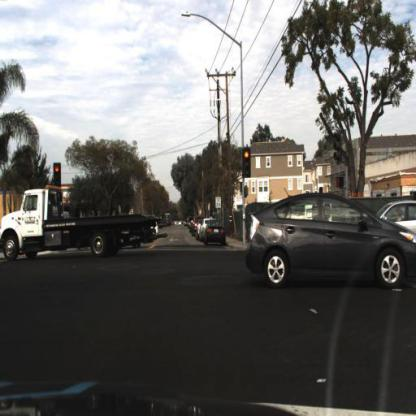car: (245, 192, 415, 290), (375, 197, 415, 251), (204, 218, 226, 248)
trafficLight: (243, 146, 253, 176)
trafficLight-Red: (53, 160, 62, 187)
truck: (0, 185, 168, 262)
